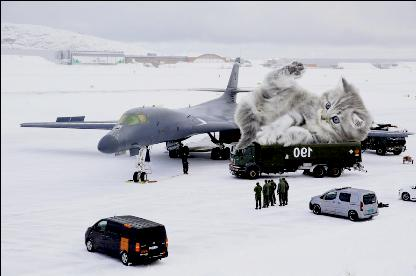AV8B: (19, 56, 416, 182)
